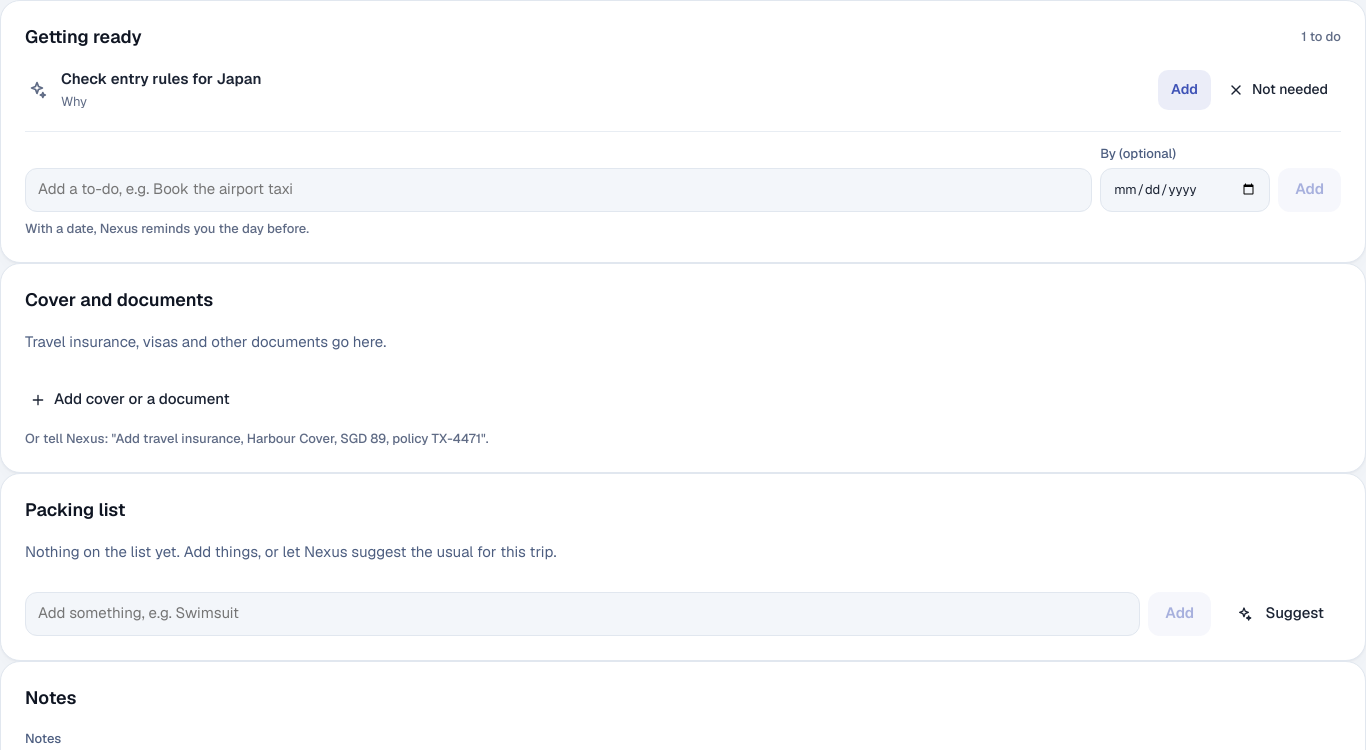
Scenario: Getting ready › a suggestion that adds a to-do adds it with its text
What coordinates should you click on to do the following:
click the button with aria-label "Add: Check entry rules for Japan"
I would click on:
 (1185, 90)
Its box is [1158,70,1211,110].
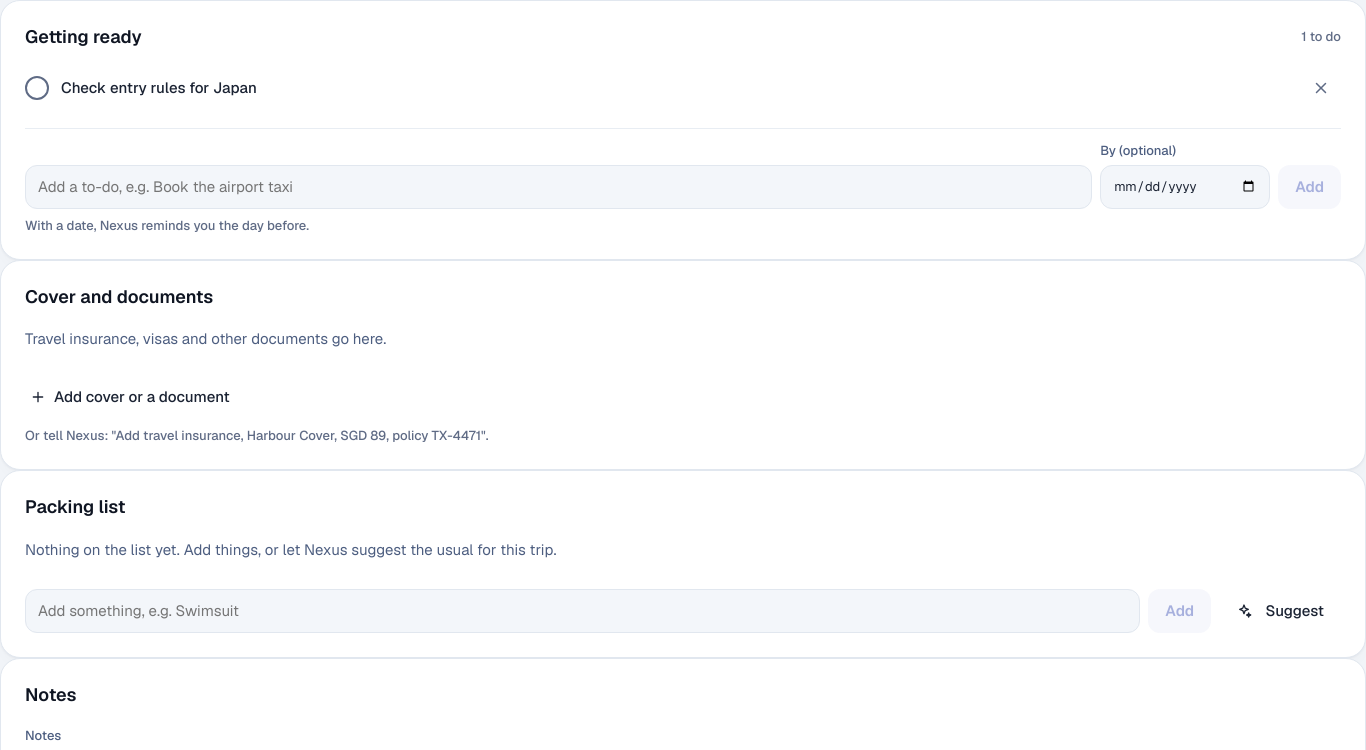
Expected: the checkbox labelled "Check entry rules for Japan" is shown, [25,76,49,100]
